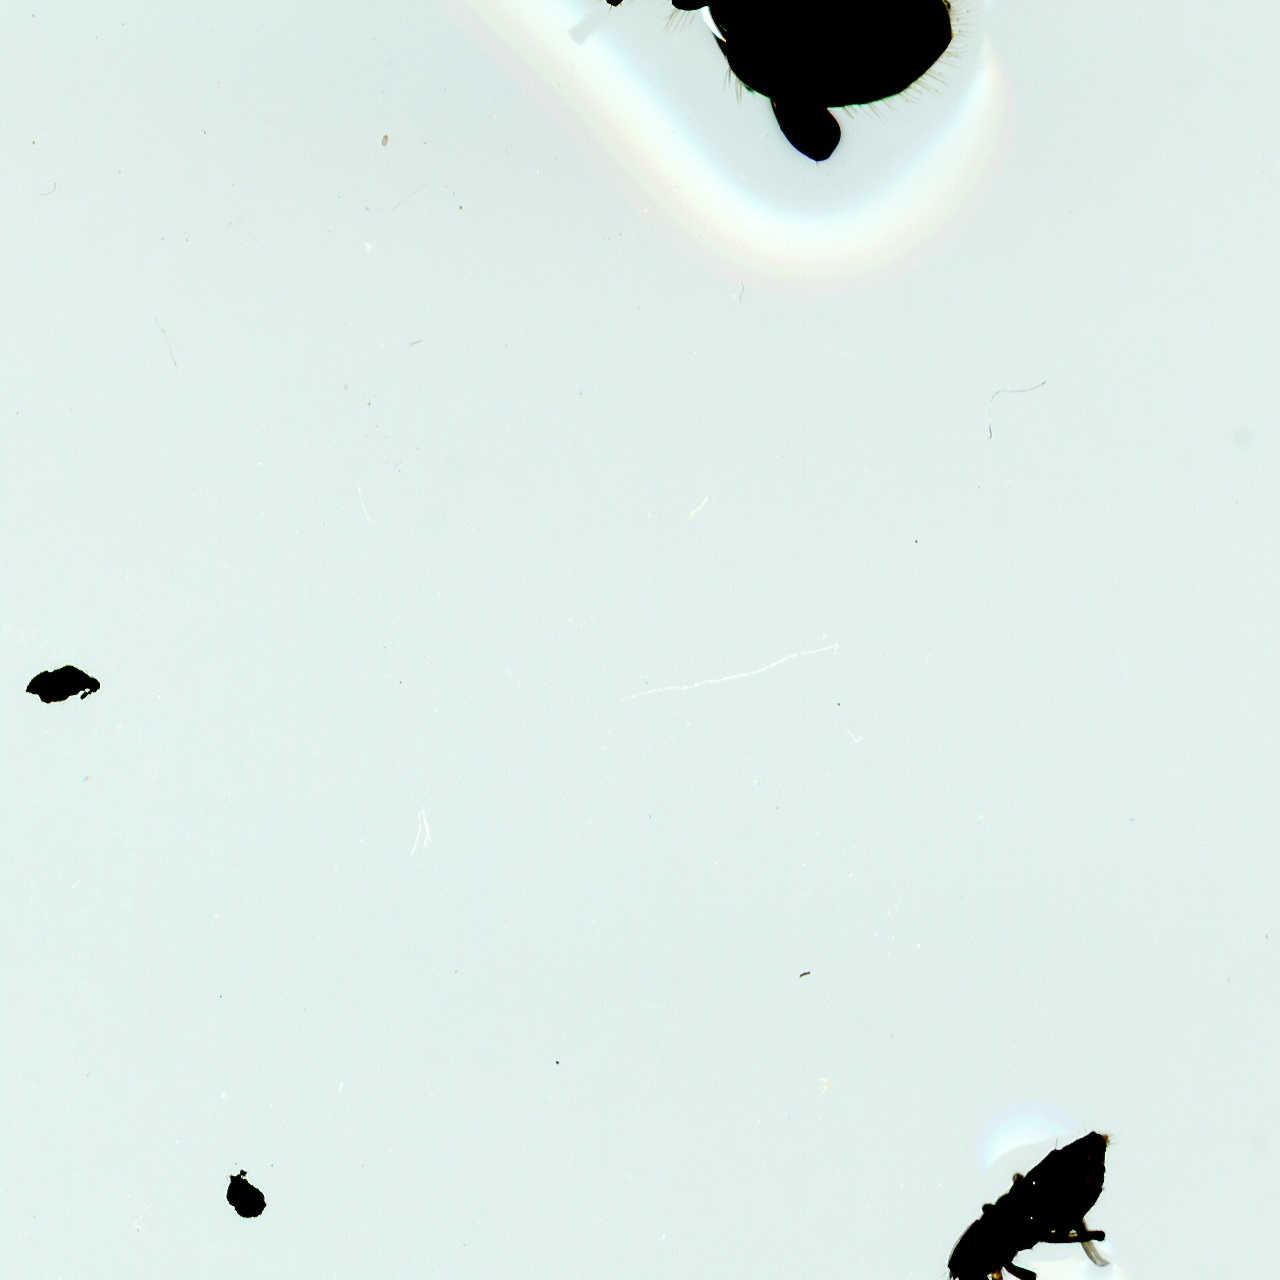arthropod: (342, 0, 1038, 281), (840, 1072, 1178, 1280)
